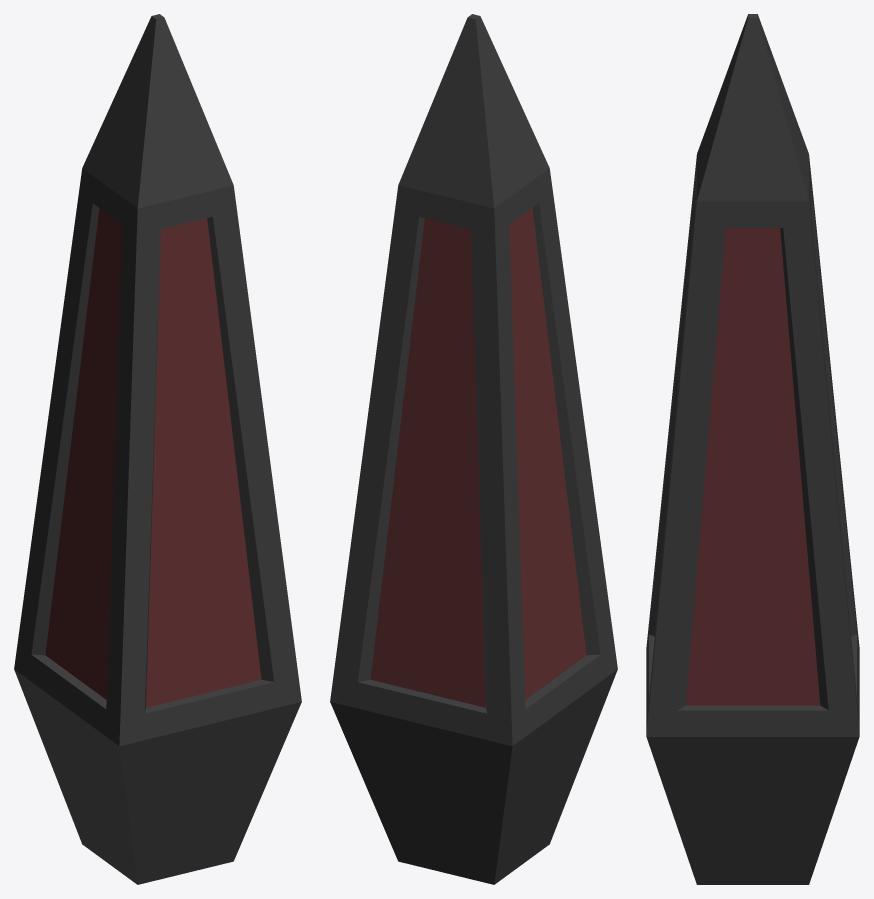
The model's file is GlyphRaider_obelisk.glb.
3 renders of one model, left to right at view 1: azimuth 30°, elevation 25°; view 2: azimuth 150°, elevation 25°; view 3: azimuth 270°, elevation 25°, orthographic.
Visible parts, largest first — view 1: Obelisk-col; view 2: Obelisk-col; view 3: Obelisk-col.
Boxes of the visible parts, <box> form: Obelisk-col: <box>14,14,301,884</box>; Obelisk-col: <box>330,14,617,884</box>; Obelisk-col: <box>646,14,859,884</box>.
Size of the model in its own units: 3.42 by 14.98 by 3.42.
